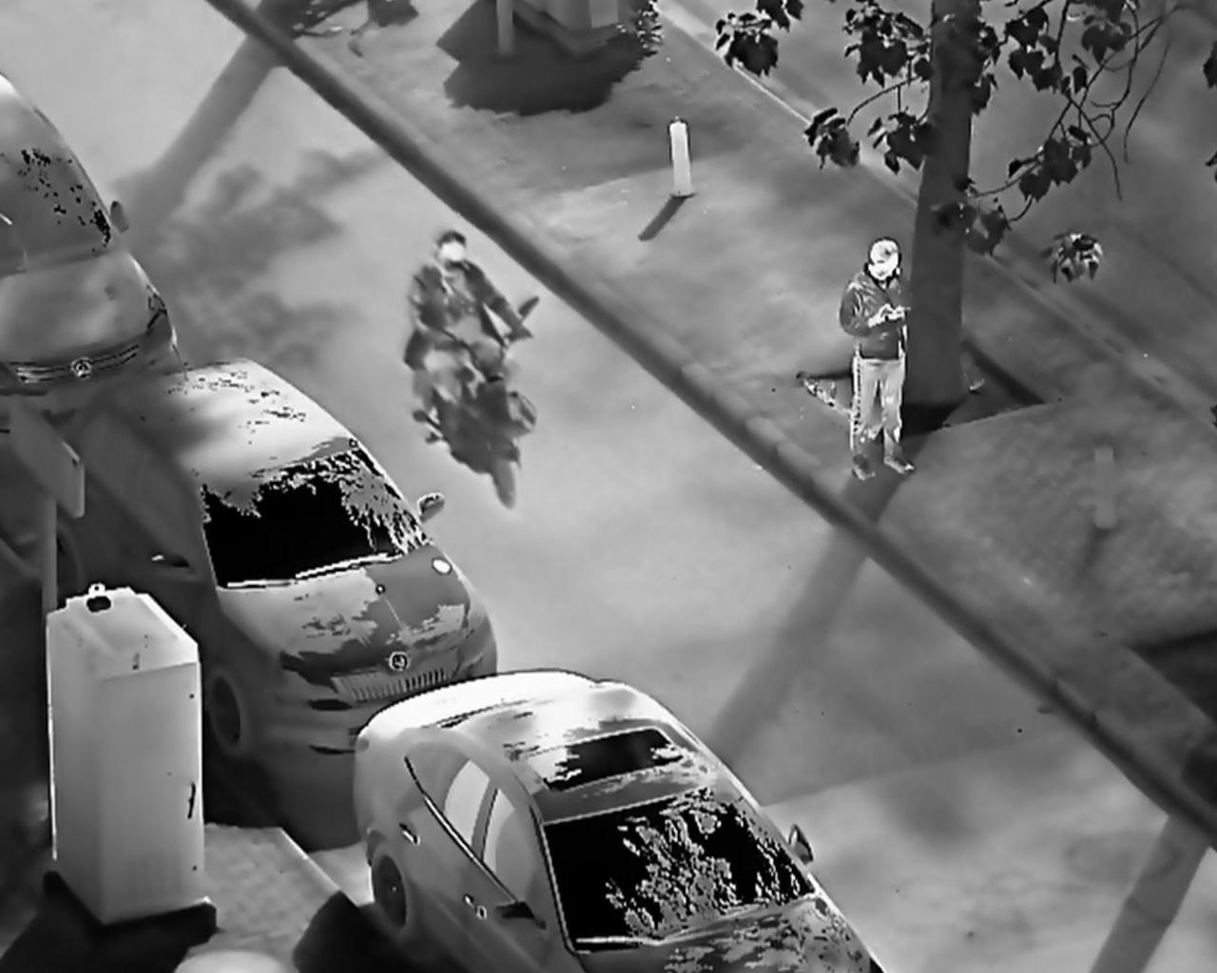person: (407, 226, 536, 442), (835, 237, 923, 483)
